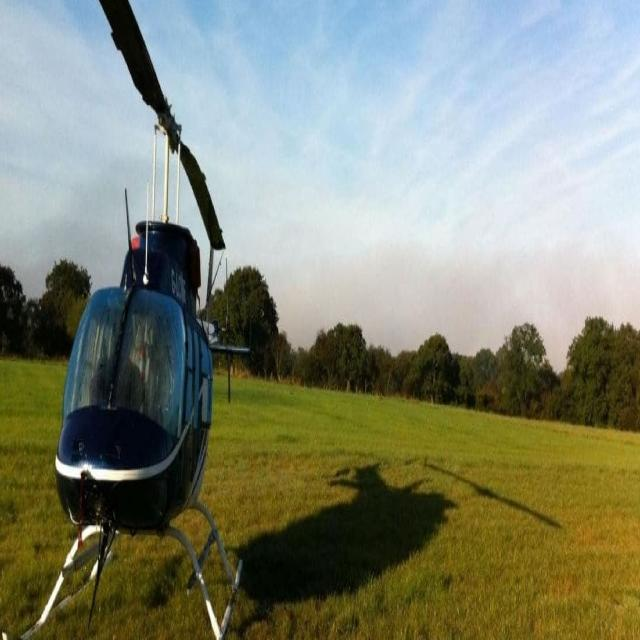helicopter: (1, 1, 253, 640)
